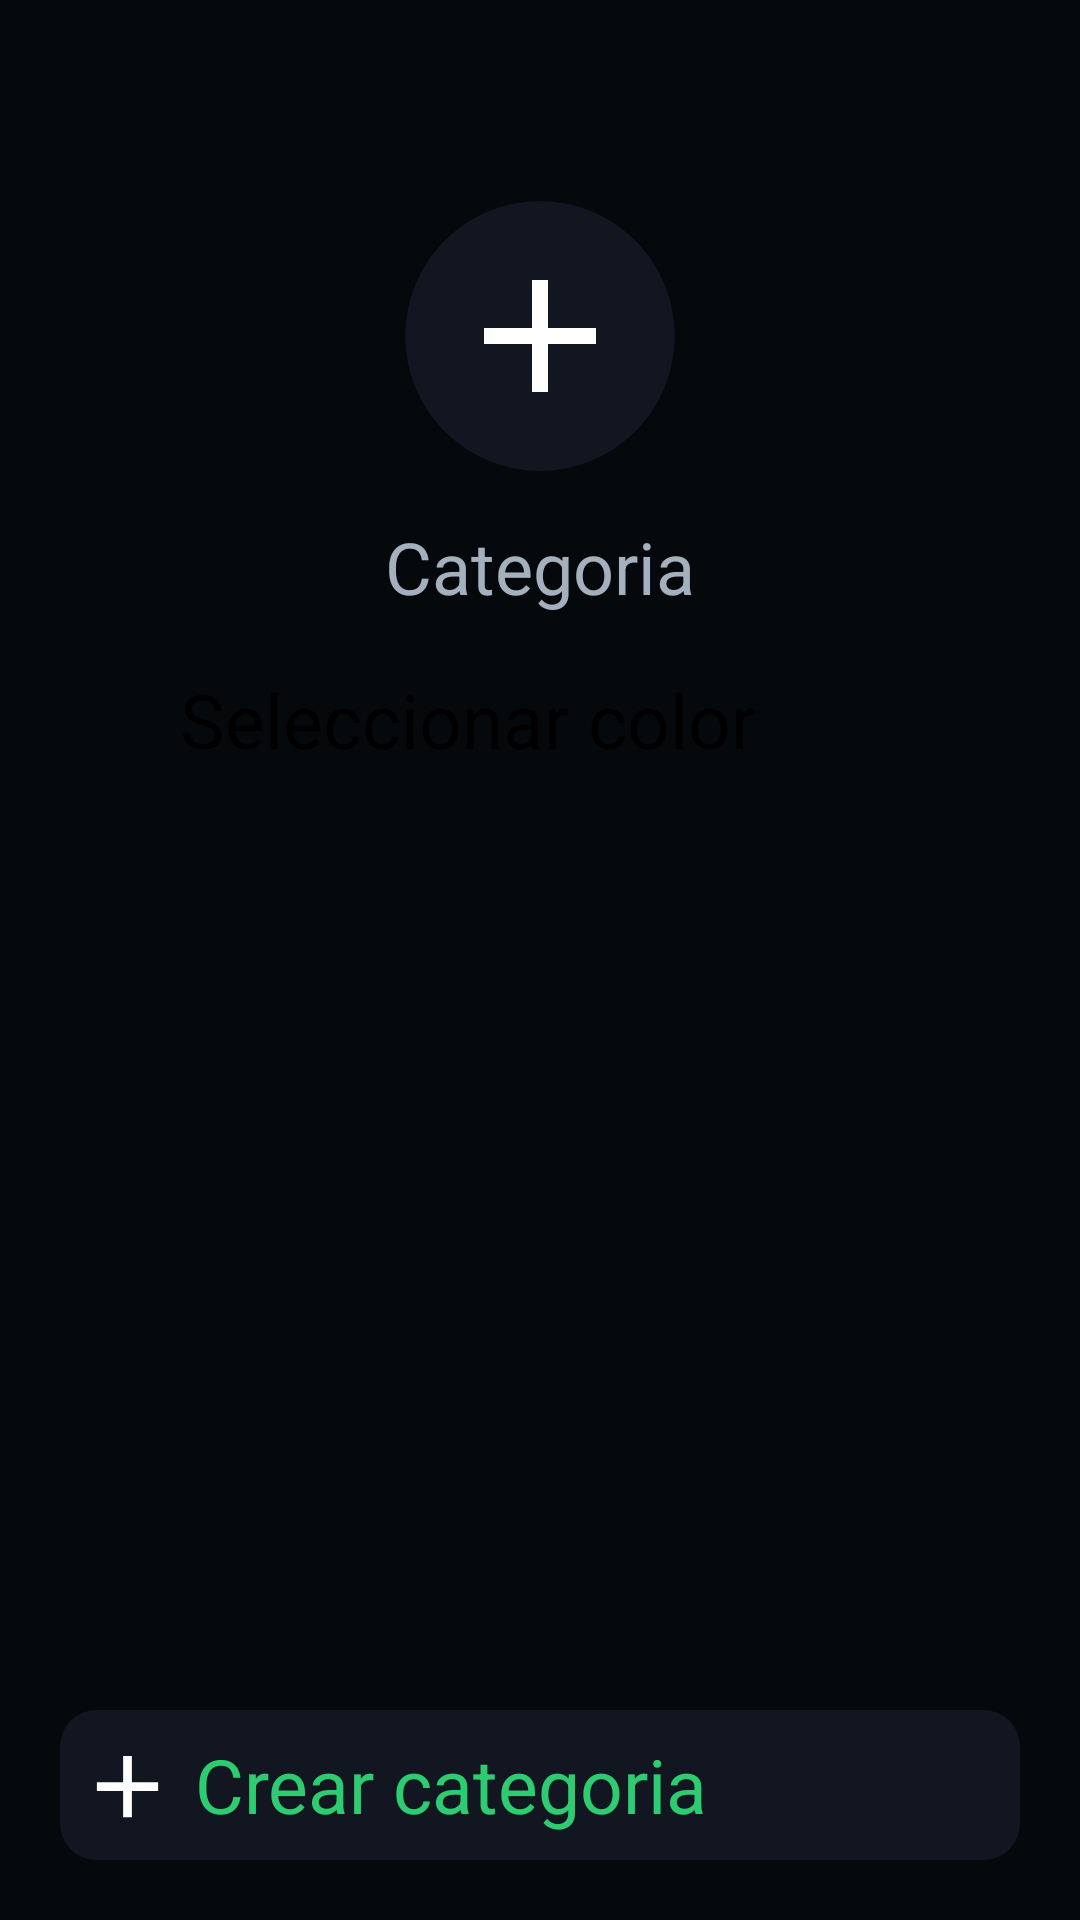

Named icons in this screenshot (1080 × 1920) and their bounding boxes, (x1, y1, x2, y2):
add: (484, 280, 596, 392), (96, 1756, 159, 1818)
